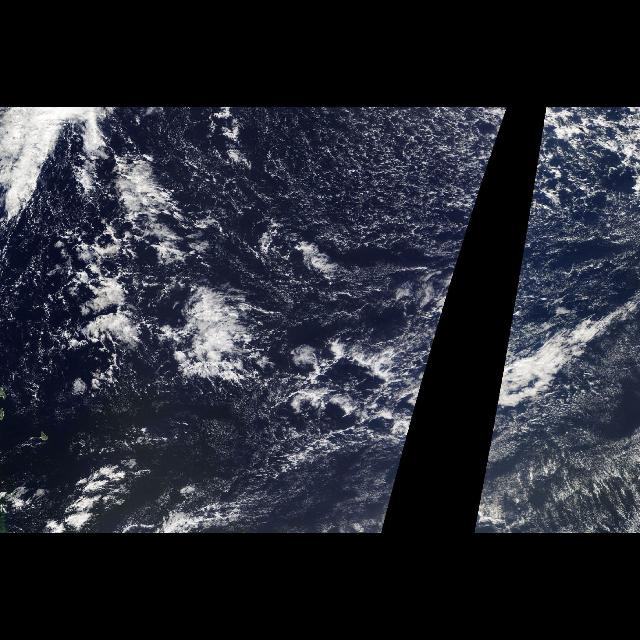Flower: (153, 292, 280, 406)
Sugar: (144, 123, 503, 275), (519, 123, 637, 275)
